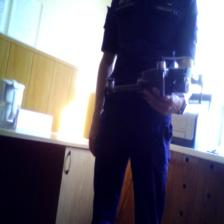drone: (98, 57, 208, 110)
